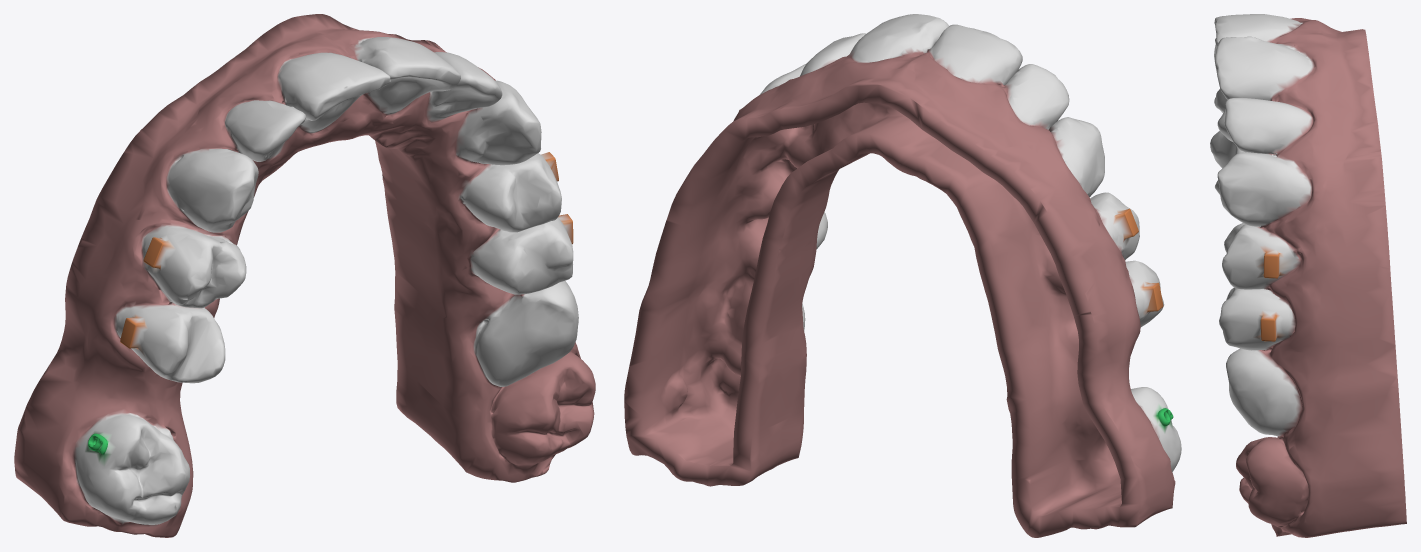
File: upper-model-9.glb
The picture shows the model from 3 angles, left to right: view 1: azimuth 30°, elevation 25°; view 2: azimuth 150°, elevation 25°; view 3: azimuth 270°, elevation 25°; orthographic projection. The views are drawn at different scales.
Parts seen in each view (by area): view 1: 9; view 2: 9; view 3: 9.
Boxes of the visible parts, <box> form: 9: <box>14,14,595,537</box>; 9: <box>624,14,1181,537</box>; 9: <box>1210,14,1406,537</box>.
Size of the model in its own units: 57.06 by 49.01 by 20.62.
